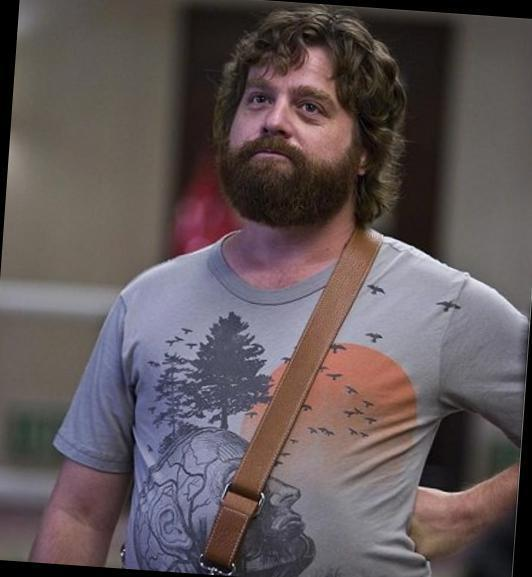Sober: (237, 53, 359, 186)
